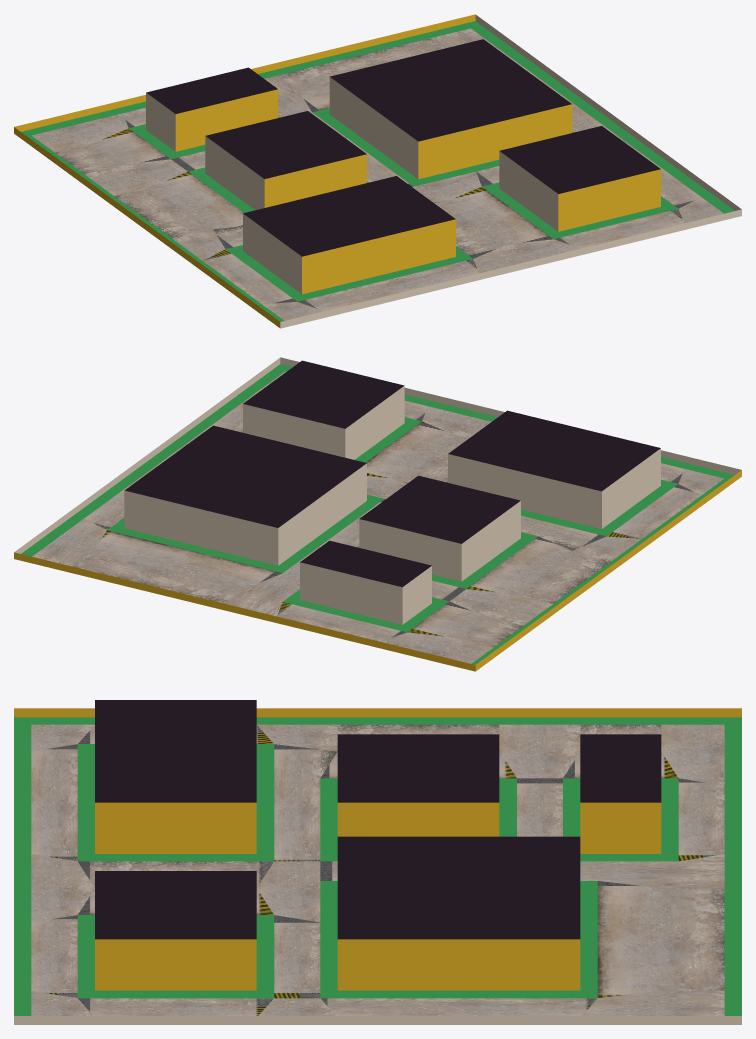
The model's file is cityblock.fbx.
3 renders of one model, top to bottom at view 1: azimuth 30°, elevation 25°; view 2: azimuth 150°, elevation 25°; view 3: azimuth 270°, elevation 25°, orthographic. The views are drawn at different scales.
Parts seen in each view (by area): view 1: bldg, road, bldg barrieryellow, gravel, bldg barrierWhite, barrierWhite, barrierYellow; view 2: road, bldg, bldg barrierWhite, gravel, barrierYellow, barrierWhite; view 3: road, bldg, bldg barrieryellow, gravel, barrierWhite, barrierYellow.
Boxes of the visible parts, x1,y1,x2,y2 form: bldg: (146, 39, 660, 256); road: (32, 28, 723, 320); bldg barrieryellow: (175, 89, 660, 294); gravel: (21, 21, 734, 321); bldg barrierWhite: (146, 77, 558, 293); barrierWhite: (280, 15, 741, 328); barrierYellow: (14, 14, 475, 327); road: (32, 371, 723, 663); bldg: (125, 360, 660, 587); bldg barrierWhite: (124, 386, 660, 624); gravel: (21, 364, 734, 664); barrierYellow: (14, 470, 741, 671); barrierWhite: (14, 357, 741, 553); road: (31, 724, 724, 1015); bldg: (95, 700, 661, 939); bldg barrieryellow: (95, 802, 661, 990); gravel: (14, 717, 741, 1015); barrierWhite: (14, 1016, 741, 1024); barrierYellow: (14, 708, 741, 717).
Size of the model in its own units: 10000 by 781 by 10000.
1 material, 1 textured.
